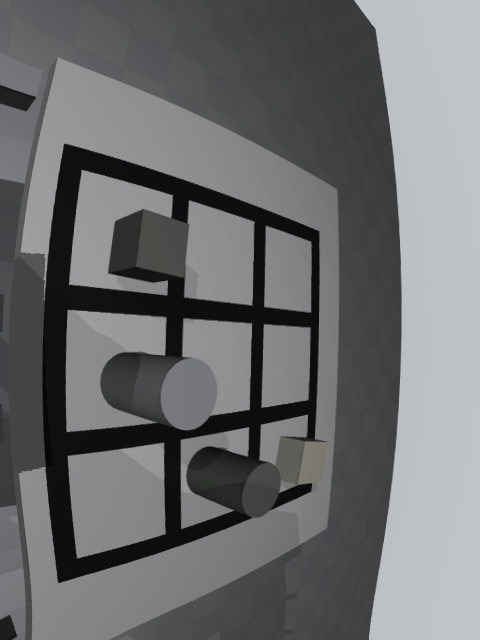can: (101, 353, 217, 430)
cube: (108, 209, 189, 283)
cylinder: (186, 446, 281, 518)
foam: (275, 436, 328, 485)
